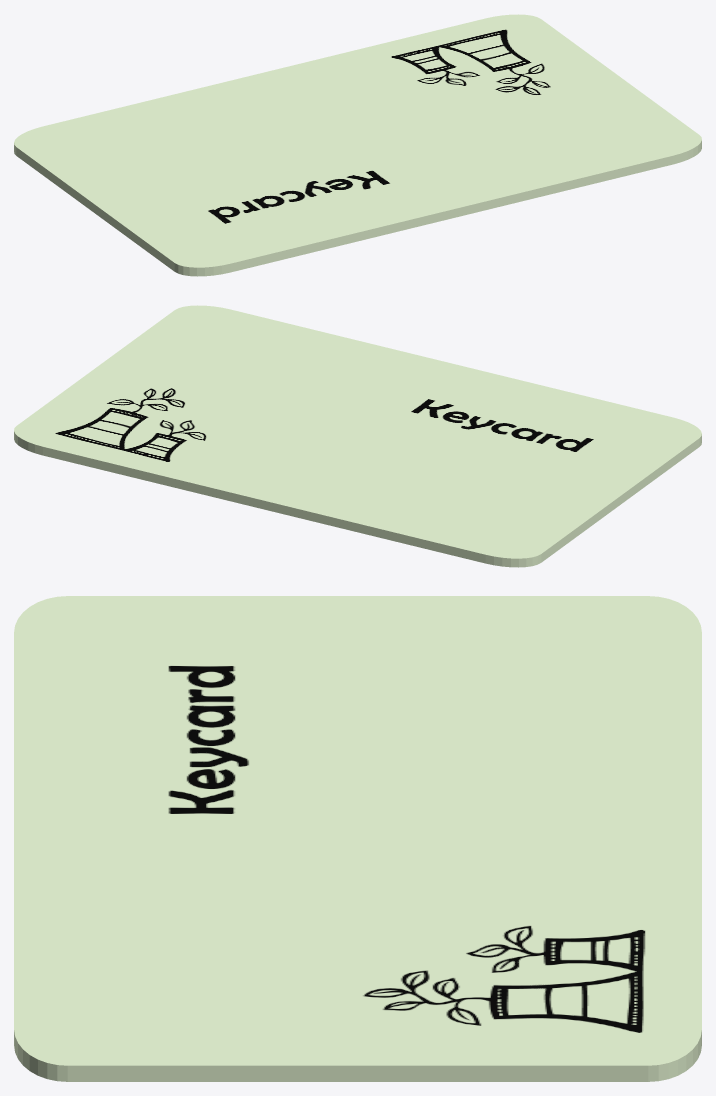
The model's file is keycard.fbx.
3 renders of one model, top to bottom at view 1: azimuth 30°, elevation 25°; view 2: azimuth 150°, elevation 25°; view 3: azimuth 270°, elevation 25°, orthographic. The views are drawn at different scales.
Visible parts, largest first — view 1: Keycard; view 2: Keycard; view 3: Keycard.
Part boxes in pixels (<box>): Keycard: <box>14,14,701,276</box>; Keycard: <box>14,305,701,567</box>; Keycard: <box>14,596,701,1081</box>.
Size of the model in its own units: 796 by 12.81 by 493.
